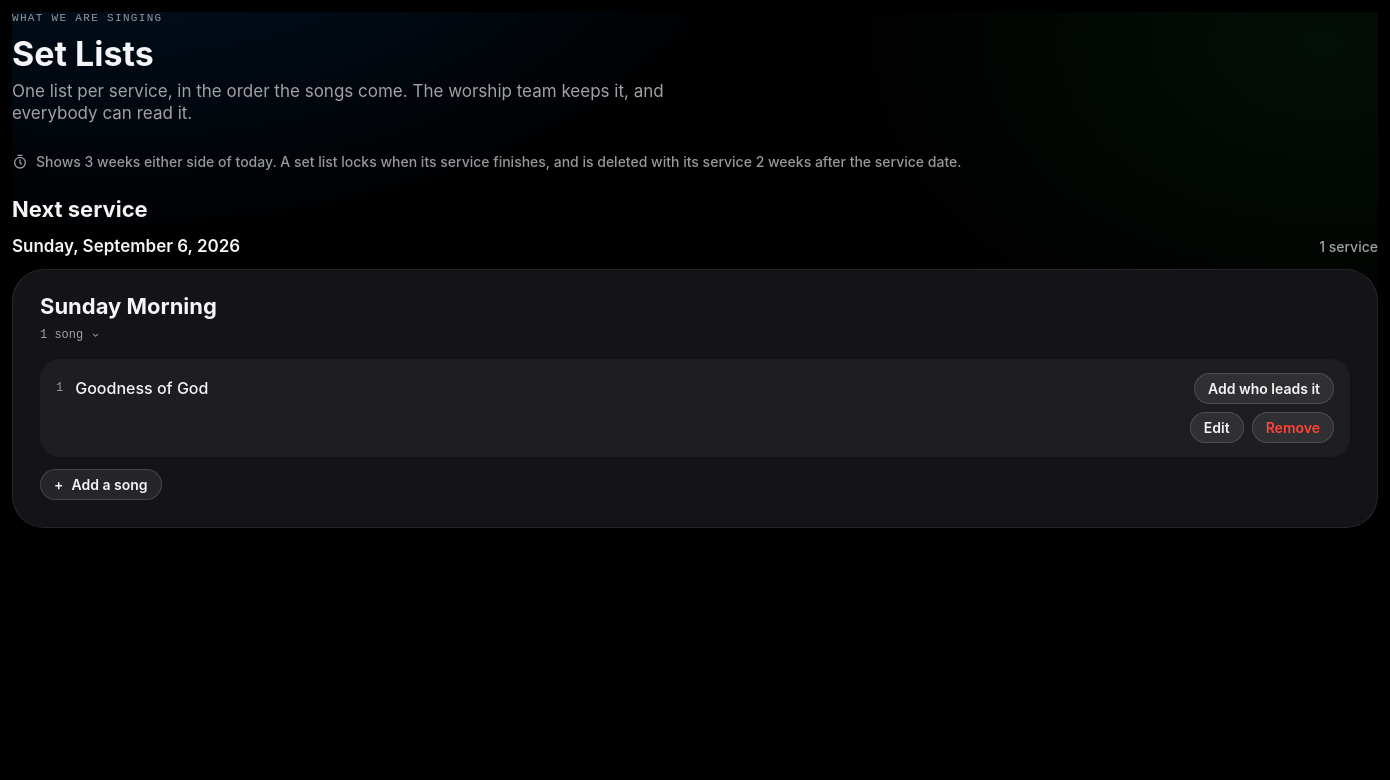
SetListsPage › offers to fill in who leads a song that has nobody against it
Click the button "Add who leads it": [1264, 388] box x1=1194 y1=372 x2=1334 y2=404
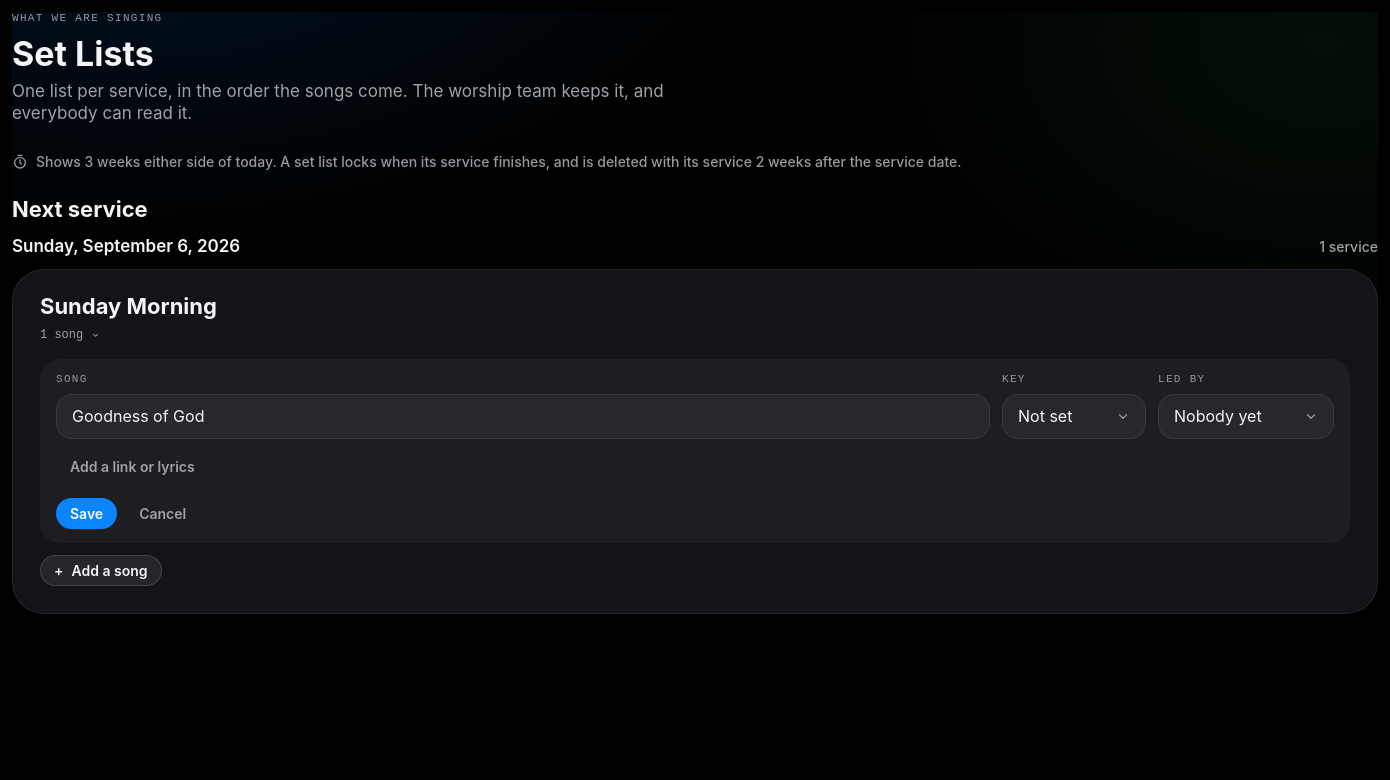
Expected: the dropdown named "Led by" is shown, x1=1158 y1=394 x2=1334 y2=438
